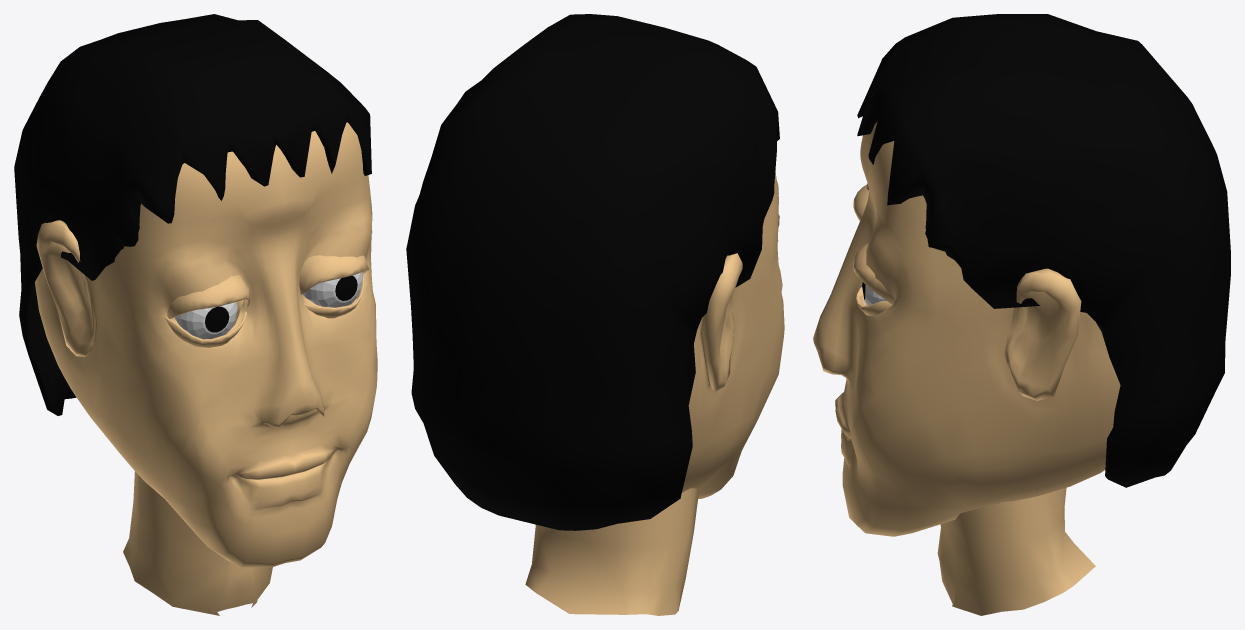
File: head5.fbx
3 renders of one model, left to right at view 1: azimuth 30°, elevation 25°; view 2: azimuth 150°, elevation 25°; view 3: azimuth 270°, elevation 25°, orthographic. The views are drawn at different scales.
Visible parts, largest first — view 1: Face.002, Hair.002, Body.005, Eye.006, Eye1.006, Eye1.007, Eye2.006, Eye2.007; view 2: Hair.002, Face.002, Body.005; view 3: Hair.002, Face.002, Body.005, Eye1.007.
Part boxes in pixels (x1,y1,x2,y2): Face.002: (35,122,377,567); Hair.002: (14,14,371,415); Body.005: (123,471,272,615); Eye.006: (174,272,362,339); Eye1.006: (167,275,249,318); Eye1.007: (299,255,368,294); Eye2.006: (164,300,246,347); Eye2.007: (304,274,364,318); Hair.002: (406,14,779,530); Face.002: (682,170,784,498); Body.005: (525,488,699,615); Hair.002: (857,14,1230,487); Face.002: (813,121,1120,536); Body.005: (937,488,1095,615); Eye1.007: (853,243,894,304).
Bounding box in the file's own units: 30.54 × 55.12 × 37.41.
